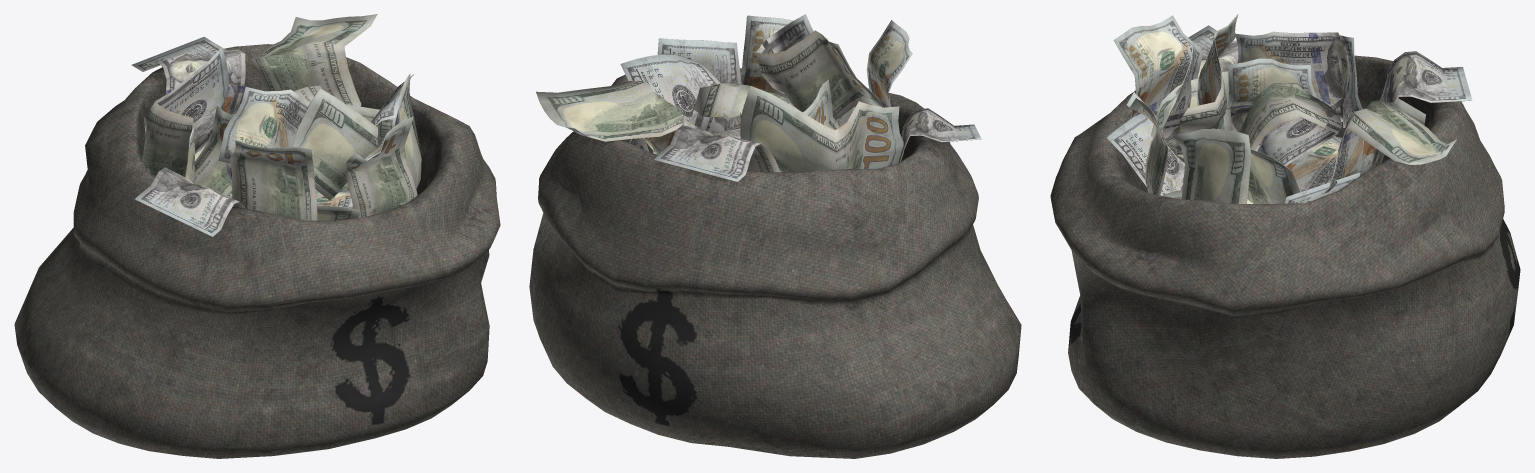
File: bag_of_money.glb
3 renders of one model, left to right at view 1: azimuth 30°, elevation 25°; view 2: azimuth 150°, elevation 25°; view 3: azimuth 270°, elevation 25°, orthographic. The views are drawn at different scales.
Parts seen in each view (by area): view 1: Sphere; view 2: Sphere; view 3: Sphere.
Part boxes in pixels (x1=…): Sphere: x1=14, y1=14, x2=500, y2=458; Sphere: x1=529, y1=14, x2=1021, y2=458; Sphere: x1=1050, y1=14, x2=1520, y2=458.
Size of the model in its own units: 0.1147 by 0.084 by 0.1037.
1 material, 1 textured.
